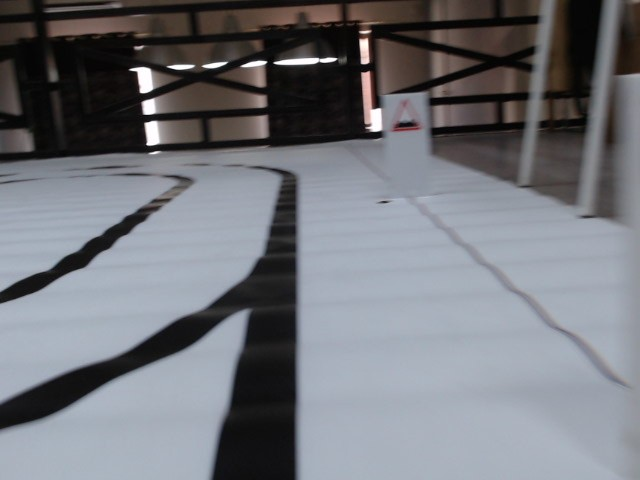Nerov: (392, 96, 420, 134)
